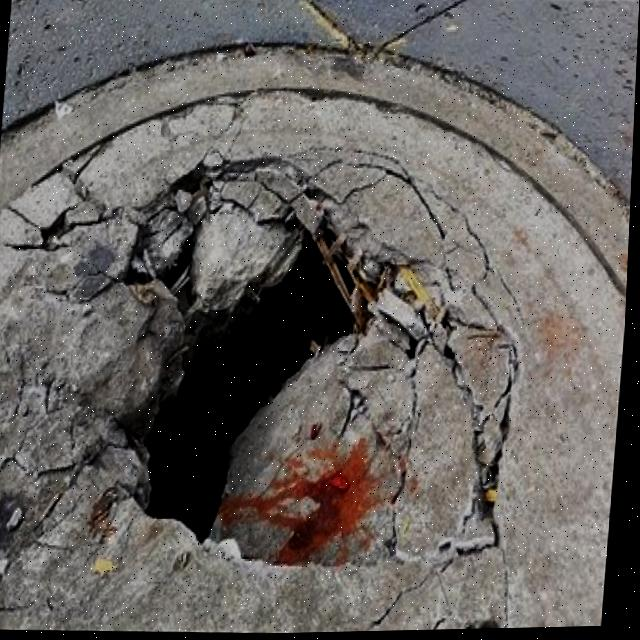manhole: (0, 34, 638, 640)
